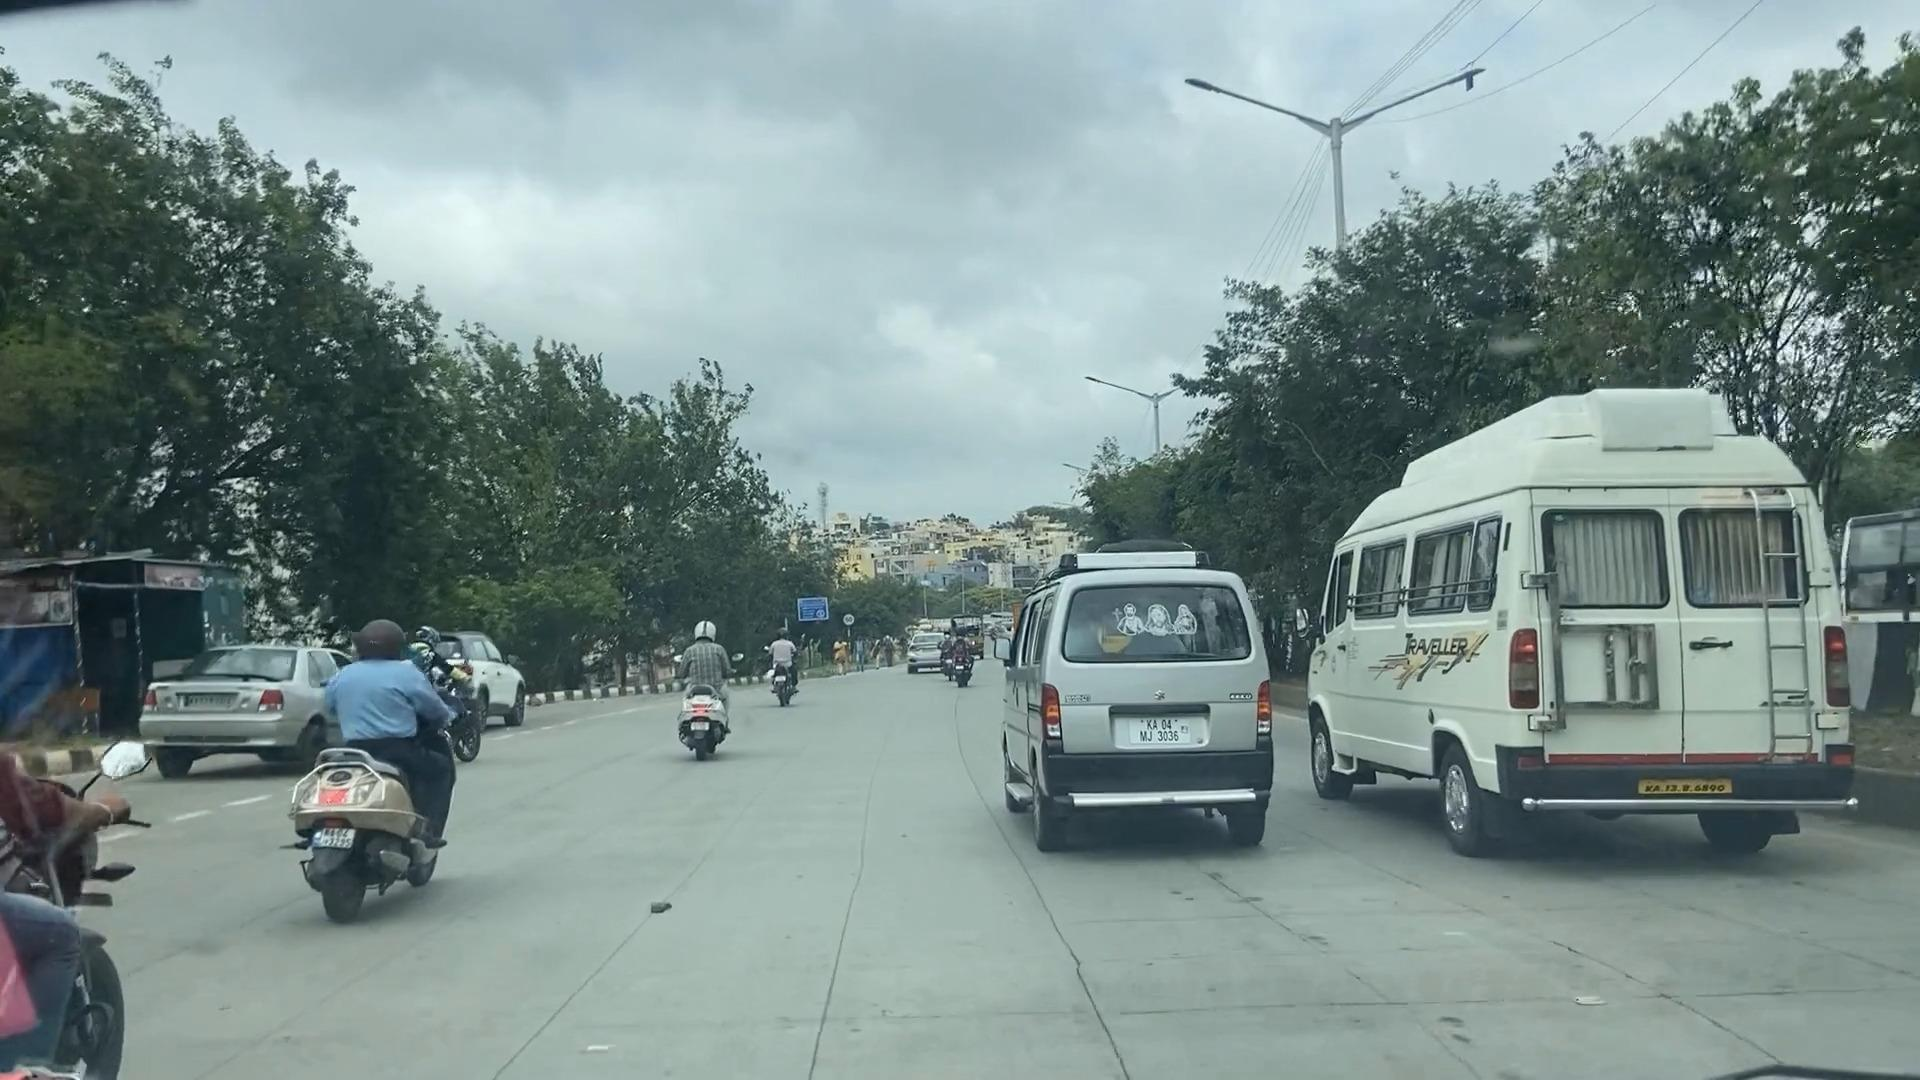HMV: (1313, 477, 1829, 848)
LMV: (1029, 568, 1274, 843), (335, 625, 458, 920), (189, 638, 323, 758), (675, 603, 748, 761)
